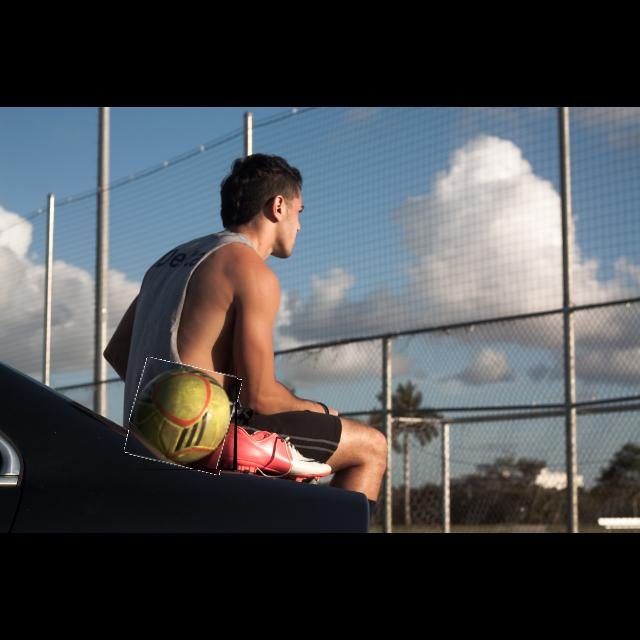Football: (129, 362, 237, 470)
